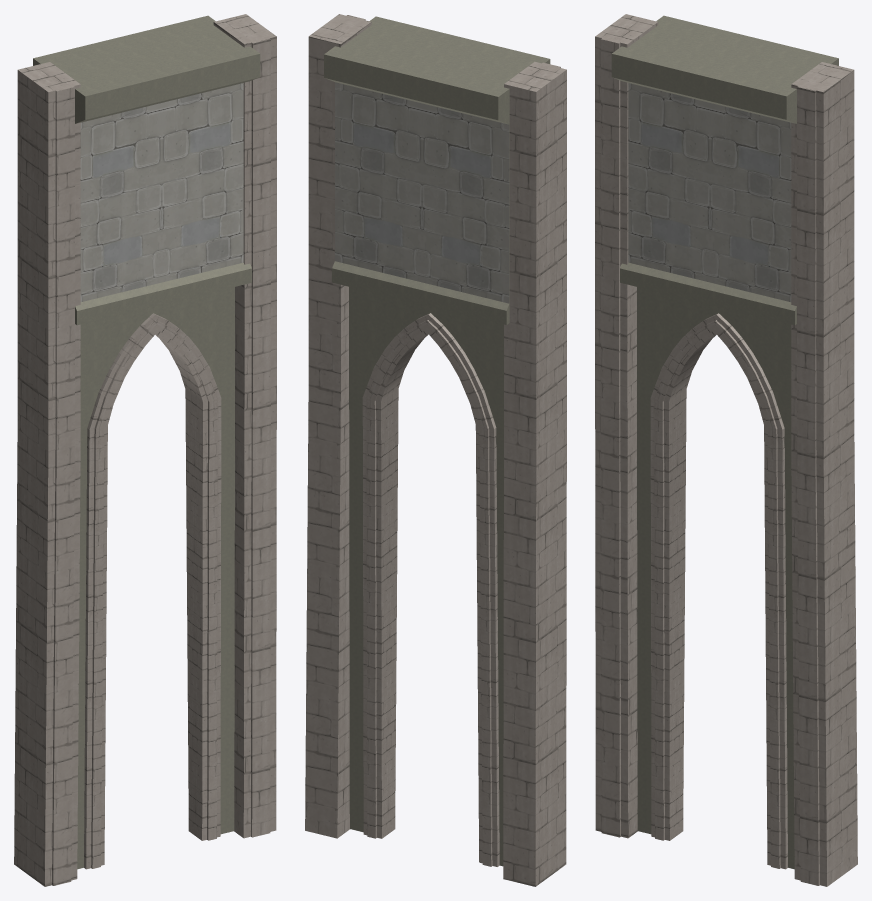
The model's file is AD_ArchPillar_B_01.fbx.
3 views of the same model, side by side, from view 1: azimuth 30°, elevation 25°; view 2: azimuth 150°, elevation 25°; view 3: azimuth 330°, elevation 25° (orthographic).
Visible parts, largest first — view 1: AD_ArchPillar_B_01; view 2: AD_ArchPillar_B_01; view 3: AD_ArchPillar_B_01.
Boxes of the visible parts, bbox=[...] form: AD_ArchPillar_B_01: bbox=[14, 14, 276, 886]; AD_ArchPillar_B_01: bbox=[305, 14, 566, 886]; AD_ArchPillar_B_01: bbox=[595, 14, 857, 886].
Bounding box in the file's own units: 994 × 3269 × 388.
3 materials, 3 textured.
